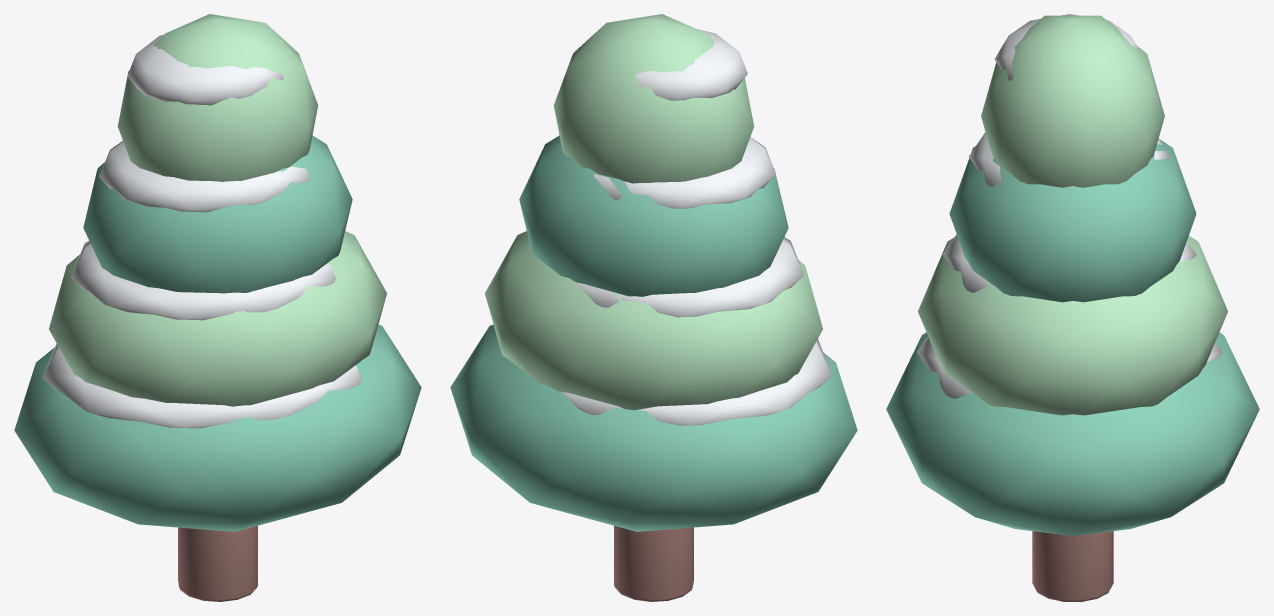
File: winter_tree_1.glb
3 renders of one model, left to right at view 1: azimuth 30°, elevation 25°; view 2: azimuth 150°, elevation 25°; view 3: azimuth 270°, elevation 25°, orthographic.
Parts seen in each view (by area): view 1: NeedleCrown_0.001, NeedleCrown_1.001, NeedleCrown_2.001, NeedleCrown_3.001, SnowCap_0.002, SnowCap_1.002, SnowCap_2.002, Trunk.001, SnowCap_3.002; view 2: NeedleCrown_0.001, NeedleCrown_1.001, NeedleCrown_2.001, NeedleCrown_3.001, Trunk.001, SnowCap_0.002, SnowCap_1.002, SnowCap_2.002, SnowCap_3.002; view 3: NeedleCrown_0.001, NeedleCrown_1.001, NeedleCrown_2.001, NeedleCrown_3.001, Trunk.001, SnowCap_1.002, SnowCap_0.002, SnowCap_2.002, SnowCap_3.002.
Boxes of the visible parts, box(x1,y1,x2,y2) form: NeedleCrown_0.001: box(14, 324, 421, 531); NeedleCrown_1.001: box(49, 231, 386, 406); NeedleCrown_2.001: box(83, 135, 352, 293); NeedleCrown_3.001: box(117, 14, 318, 181); SnowCap_0.002: box(42, 343, 361, 428); SnowCap_1.002: box(71, 240, 335, 320); SnowCap_2.002: box(99, 141, 309, 212); Trunk.001: box(178, 525, 257, 601); SnowCap_3.002: box(127, 34, 283, 105); NeedleCrown_0.001: box(450, 324, 857, 531); NeedleCrown_1.001: box(485, 231, 822, 410); NeedleCrown_2.001: box(519, 135, 788, 296); NeedleCrown_3.001: box(553, 14, 754, 183); Trunk.001: box(614, 525, 693, 601); SnowCap_0.002: box(562, 339, 832, 425); SnowCap_1.002: box(575, 237, 804, 317); SnowCap_2.002: box(593, 137, 775, 208); SnowCap_3.002: box(635, 29, 747, 100); NeedleCrown_0.001: box(886, 332, 1259, 535); NeedleCrown_1.001: box(918, 236, 1227, 415); NeedleCrown_2.001: box(949, 139, 1196, 302); NeedleCrown_3.001: box(981, 15, 1164, 187); Trunk.001: box(1032, 531, 1113, 601); SnowCap_1.002: box(943, 234, 1196, 292); SnowCap_0.002: box(917, 337, 1222, 398); SnowCap_2.002: box(968, 132, 1170, 186); SnowCap_3.002: box(994, 14, 1138, 80).
Bounding box in the file's own units: 6.18 × 9.57 × 5.72.
